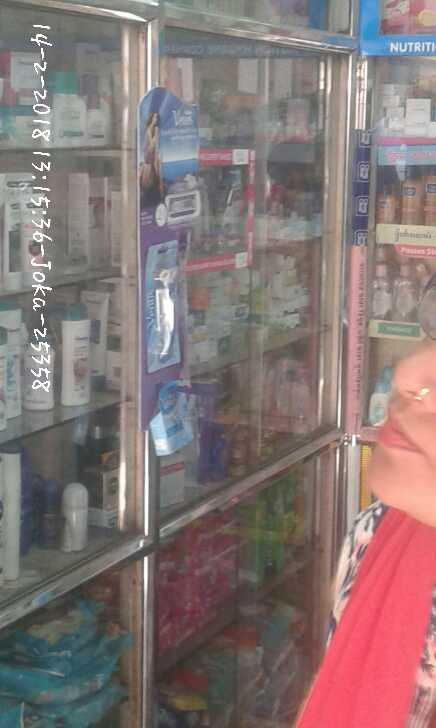venus: (142, 392, 201, 464), (142, 245, 176, 367)
